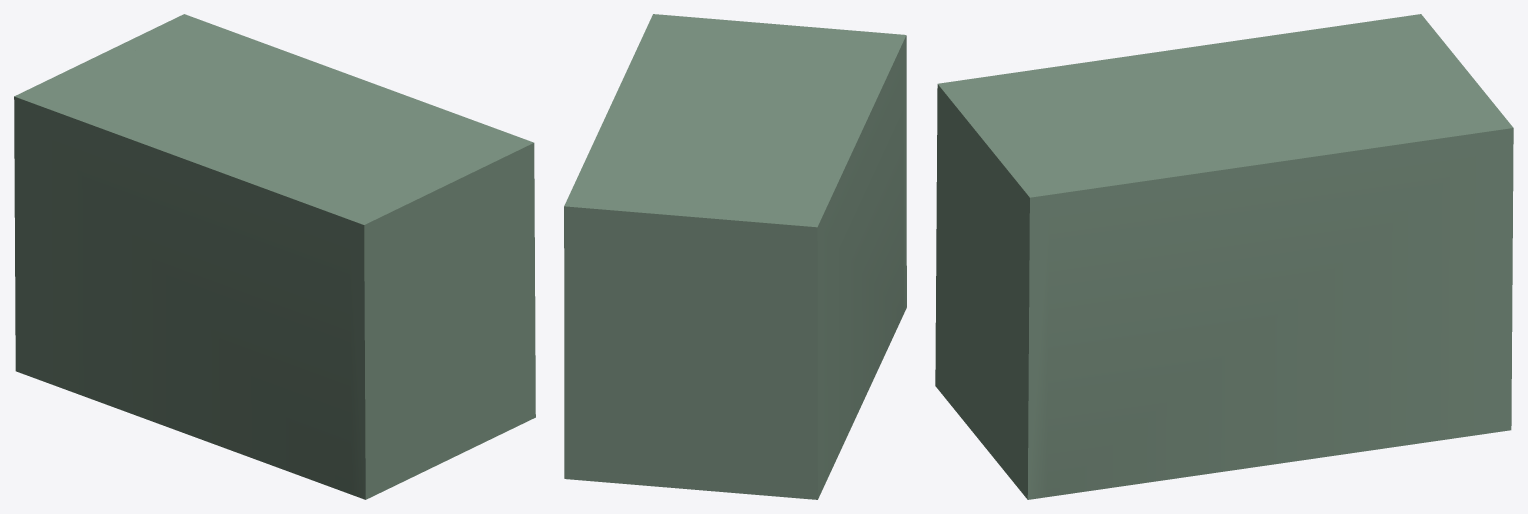
Rendered from MSH_QuestObject_cabinet_09.fbx.
3 renders of one model, left to right at view 1: azimuth 30°, elevation 25°; view 2: azimuth 150°, elevation 25°; view 3: azimuth 270°, elevation 25°, orthographic. The views are drawn at different scales.
Parts seen in each view (by area): view 1: MSH_QuestObject_cabinet_09; view 2: MSH_QuestObject_cabinet_09; view 3: MSH_QuestObject_cabinet_09.
Part boxes in pixels (box(x1,y1,x2,y2)): MSH_QuestObject_cabinet_09: box(14, 14, 535, 499); MSH_QuestObject_cabinet_09: box(564, 14, 906, 499); MSH_QuestObject_cabinet_09: box(935, 14, 1513, 499).
Bounding box in the file's own units: 1.35 × 1.03 × 1.78.
